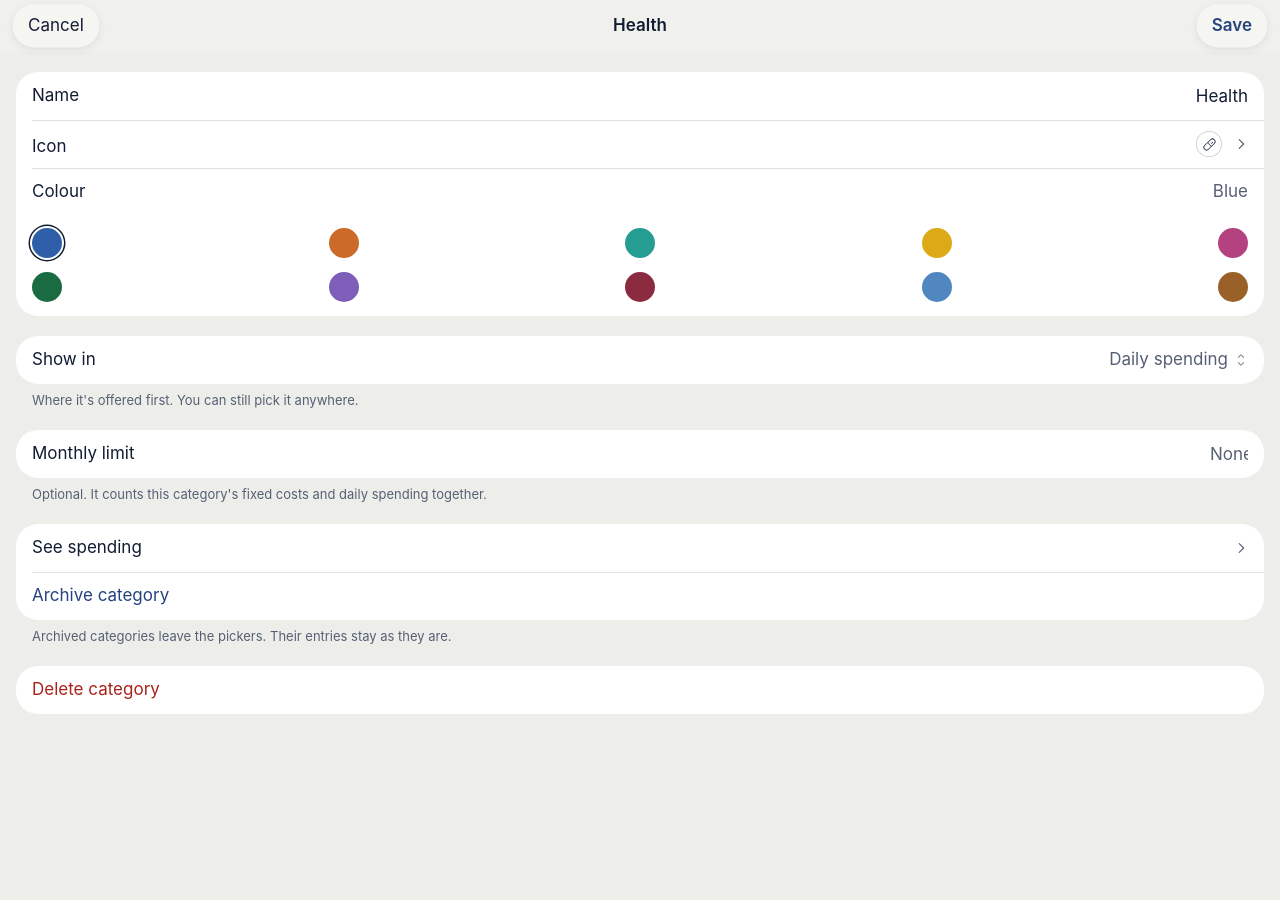
CategorySheet (SPEC §3.7) › deletes an unused category after a destructive confirmation, with Undo
Click the button "Delete category" at (96, 689), box [16,666,1264,714]
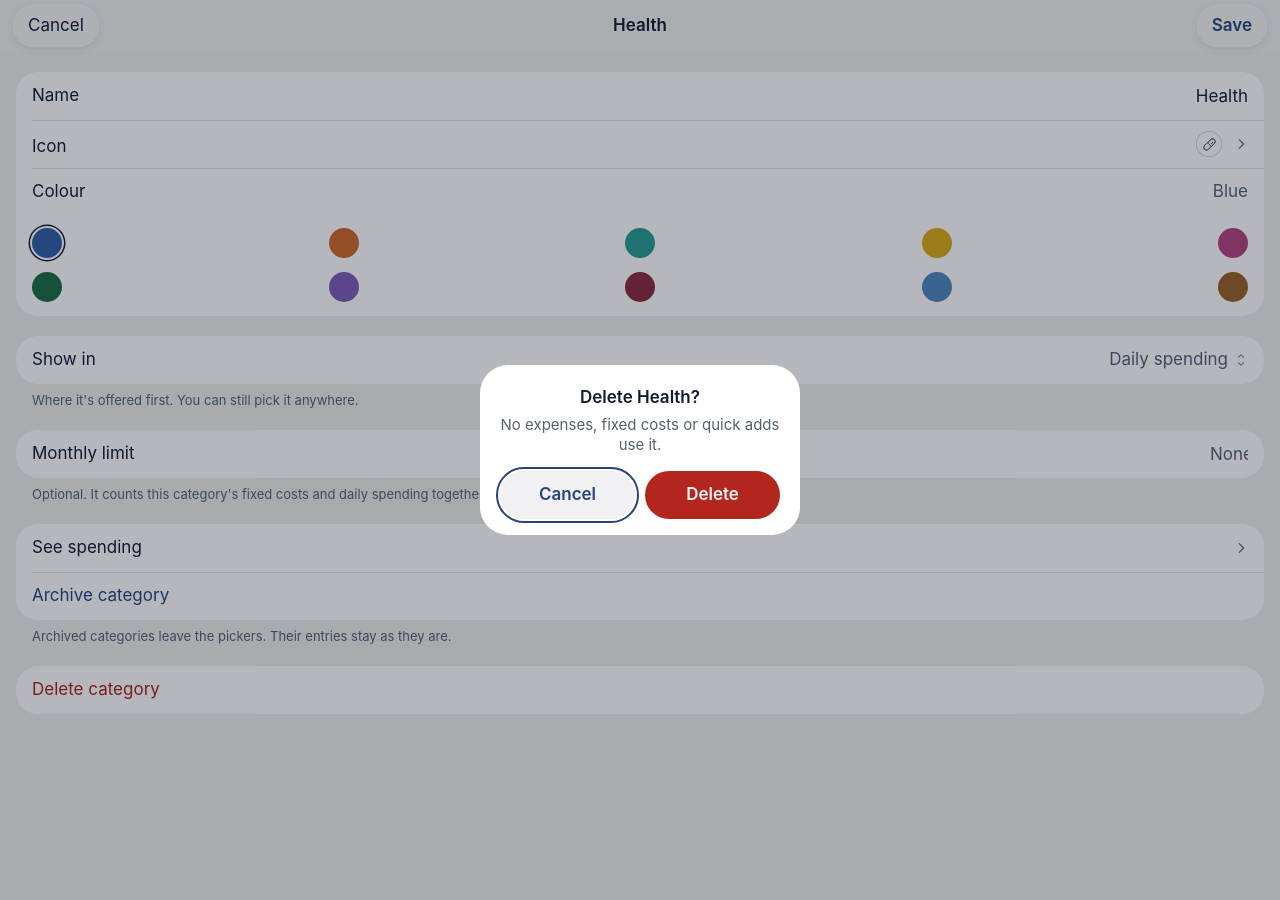
Check: the dialog shows "Delete Health?", box [580,387,700,407]
Click the button "Delete" at (712, 495), box [645,471,780,519]
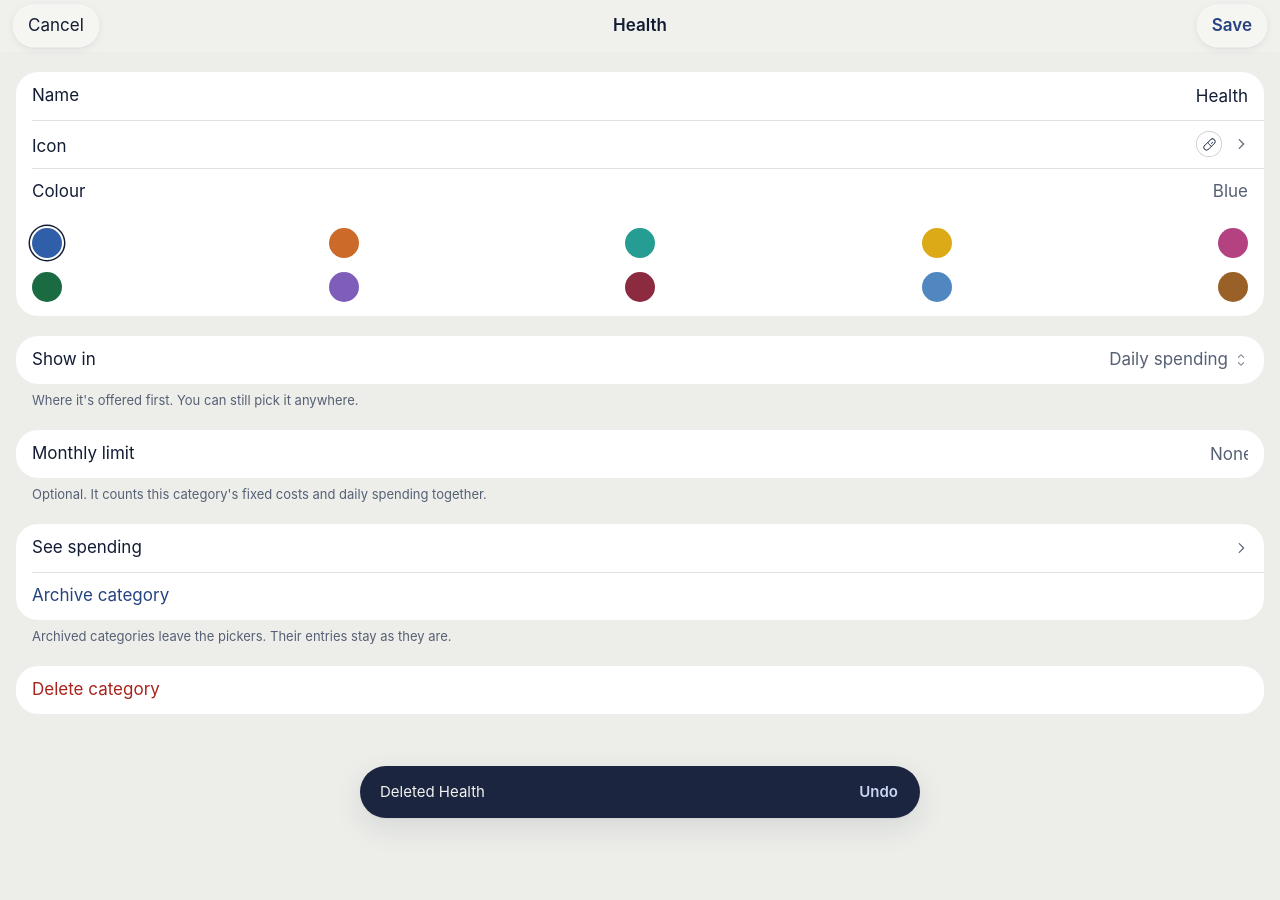
Check: the text "Deleted Health" is shown, box [380,782,485,801]
